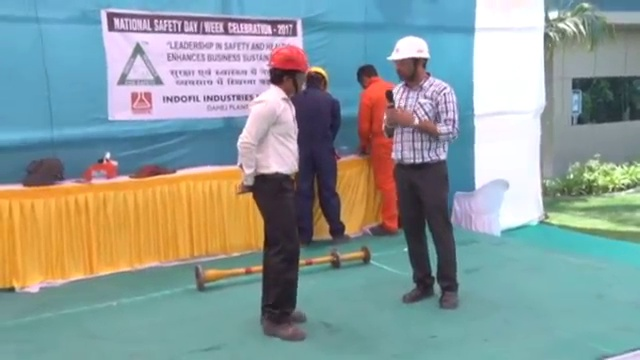helmet: (266, 44, 311, 74), (385, 35, 432, 63), (305, 64, 331, 84)
helmet_off: (355, 61, 379, 89)
helmet_on: (264, 43, 311, 96), (385, 35, 432, 88), (305, 63, 331, 93)
person: (237, 43, 311, 341), (385, 36, 462, 309), (293, 65, 353, 244), (354, 60, 403, 235)
